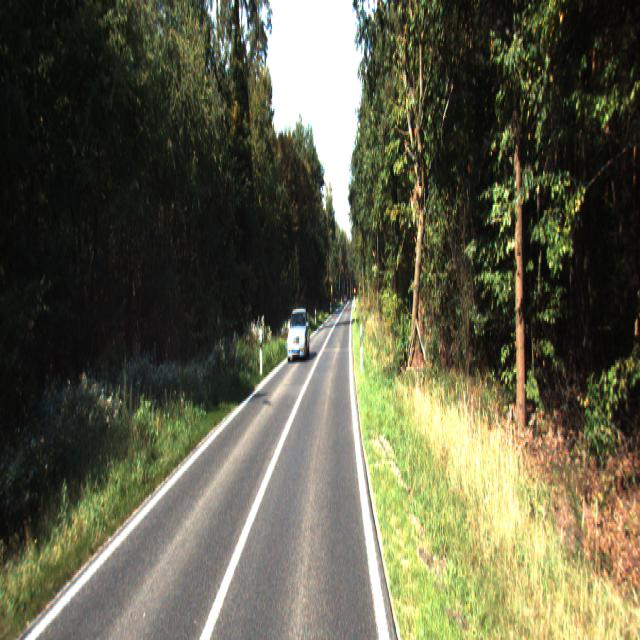Car: (286, 306, 313, 363)
